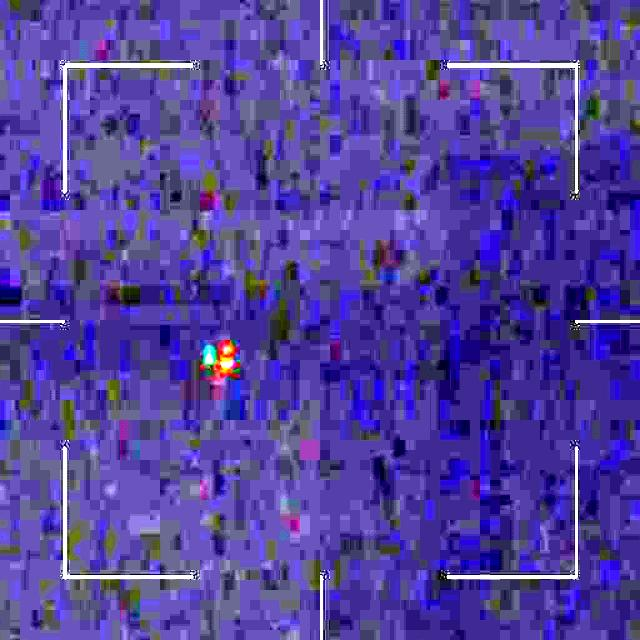bird: (202, 338, 235, 386)
